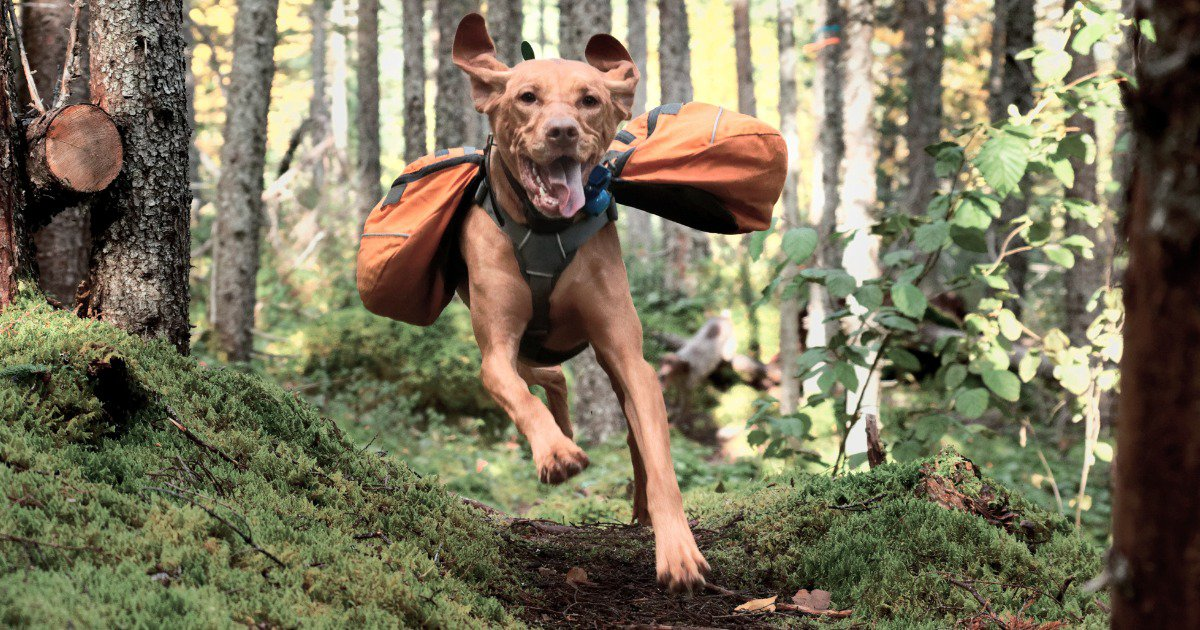dog: (446, 8, 731, 599)
